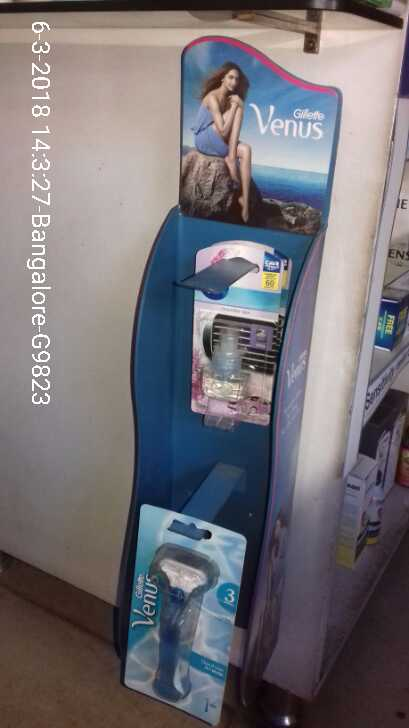beauty: (110, 530, 252, 723)
home: (185, 236, 296, 429)
